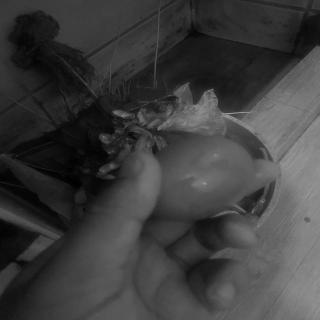Telur: (146, 134, 258, 222)
